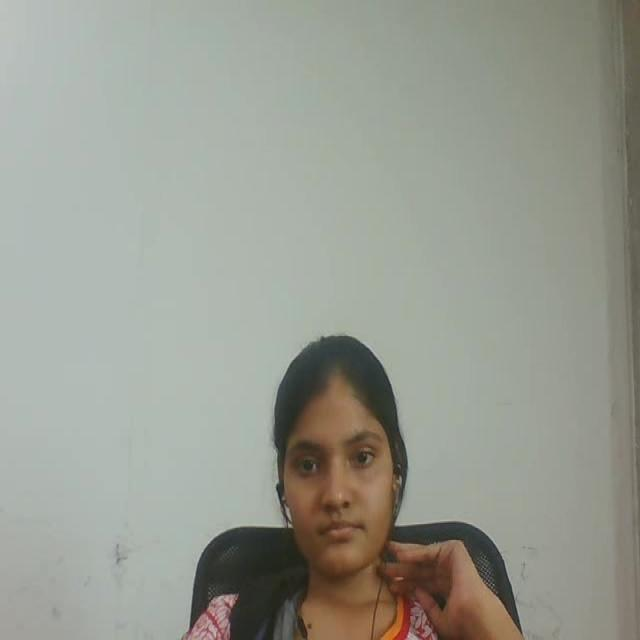Engaged: (254, 308, 436, 604)
